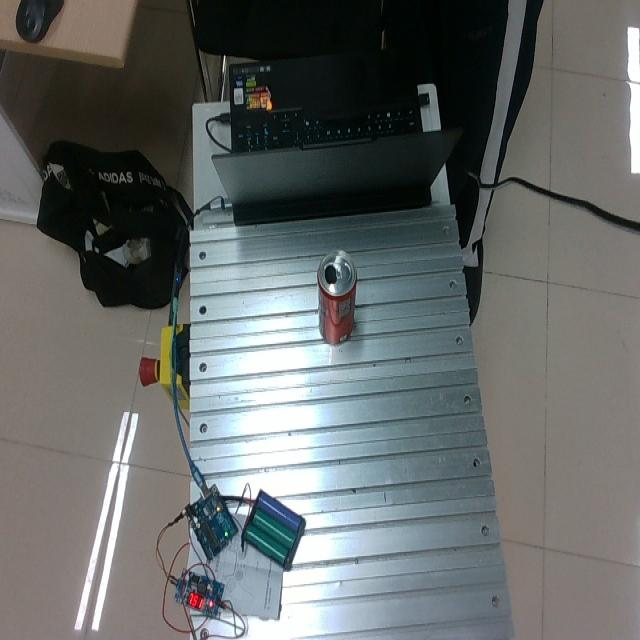coca: (316, 250, 358, 346)
